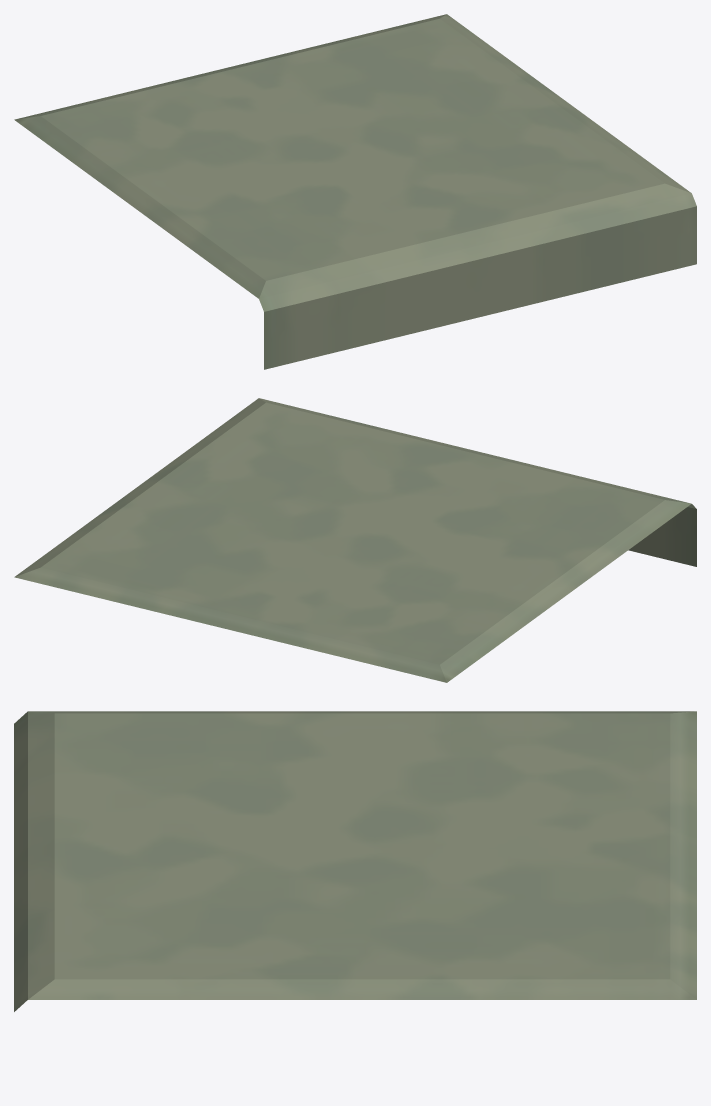
Rendered from SideWalkStraight.fbx.
3 renders of one model, top to bottom at view 1: azimuth 30°, elevation 25°; view 2: azimuth 150°, elevation 25°; view 3: azimuth 270°, elevation 25°, orthographic. The views are drawn at different scales.
Visible parts, largest first — view 1: SidewalkStraight; view 2: SidewalkStraight; view 3: SidewalkStraight.
Boxes of the visible parts, x1=… form: SidewalkStraight: x1=14, y1=14, x2=696, y2=369; SidewalkStraight: x1=14, y1=398, x2=696, y2=682; SidewalkStraight: x1=14, y1=711, x2=696, y2=1011.
Bounding box in the file's own units: 200 × 32.62 × 200.
